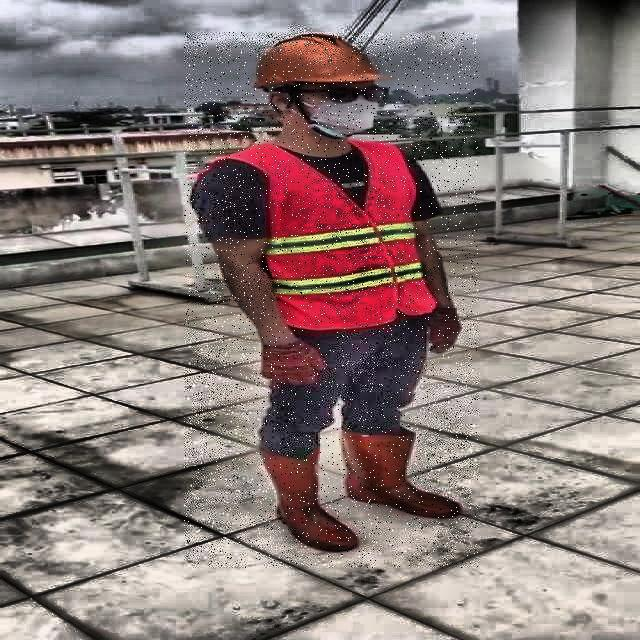safety_helmet: (250, 29, 388, 92)
safety_jacket: (263, 142, 432, 327)
